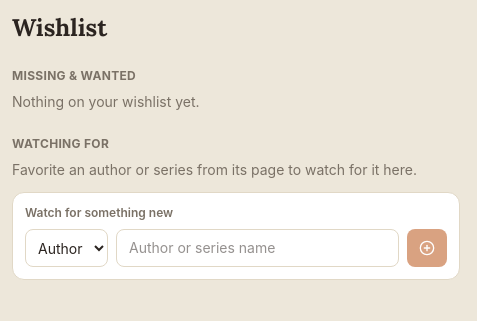
Scenario: WishlistPage › shows an error when the favorite already exists
Expected: the text "Watch for something new" is shown, [25,205,173,220]
Type "Mira Voss" into the field with placeholder "Author or series name" at [258, 248], box [116,229,399,267]
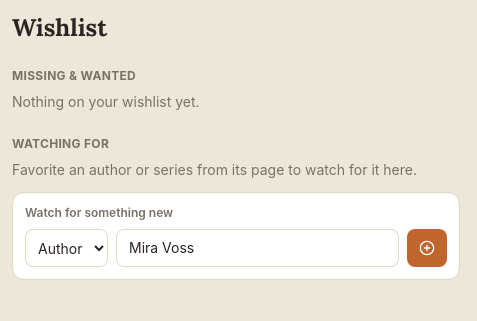
Click the button named "Add" at [427, 248], box [407,229,447,267]
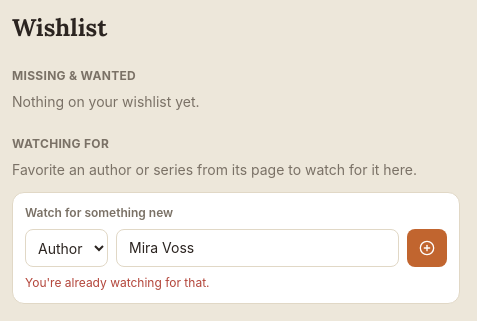
Expected: the text "You're already watching for that." is shown, [25,275,210,290]
